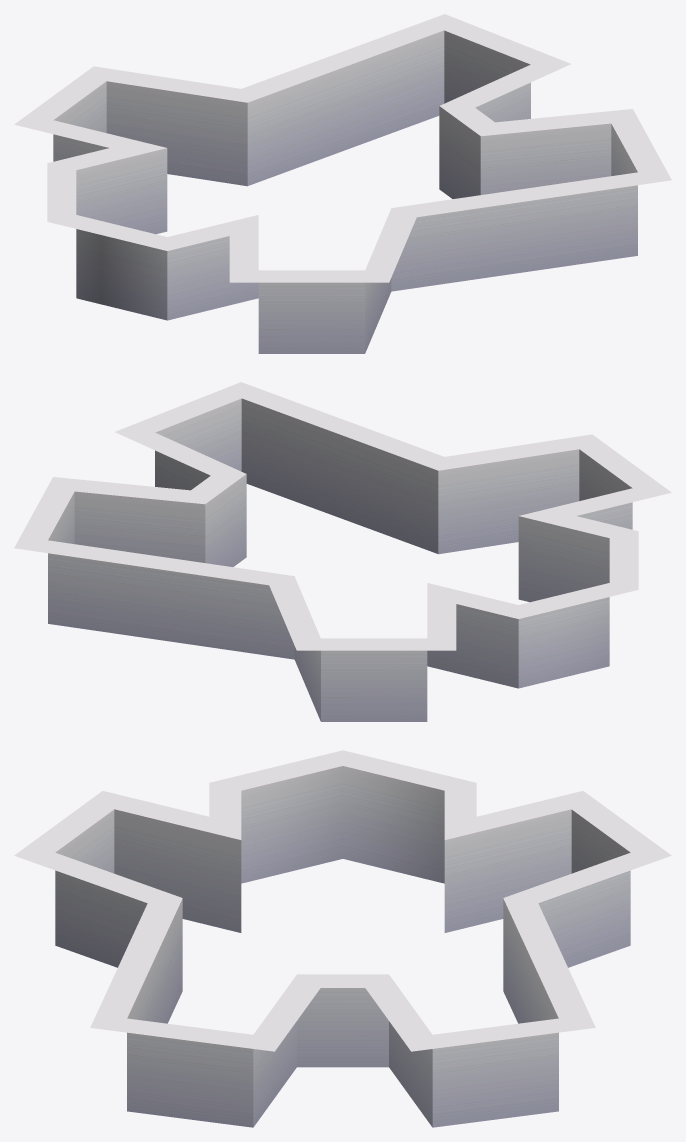
Rendered from ginger-bread-cutter.glb.
3 views of the same model, one above another, from view 1: azimuth 30°, elevation 25°; view 2: azimuth 150°, elevation 25°; view 3: azimuth 270°, elevation 25° (orthographic). The views are drawn at different scales.
Parts seen in each view (by area): view 1: ginger-bread-cutter; view 2: ginger-bread-cutter; view 3: ginger-bread-cutter.
Boxes of the visible parts, <box> form: ginger-bread-cutter: <box>14,14,671,353</box>; ginger-bread-cutter: <box>14,382,671,721</box>; ginger-bread-cutter: <box>14,750,671,1127</box>.
Bounding box in the file's own units: 0.2919 × 0.042 × 0.2693.
1 material, 1 textured.
